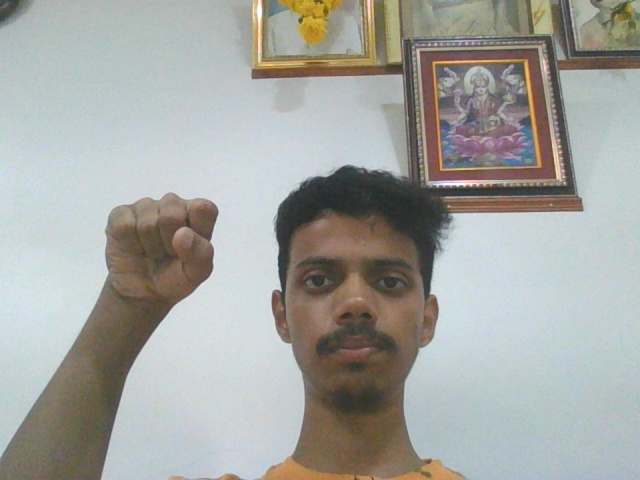Yes: (104, 192, 217, 297)
